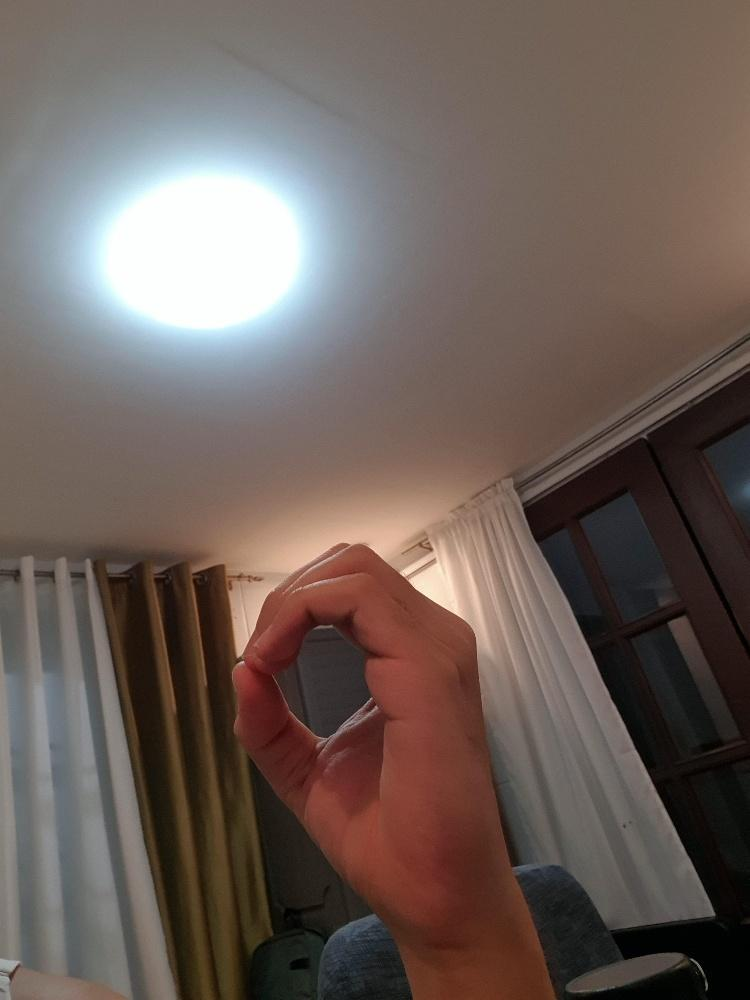o: (228, 537, 511, 935)
